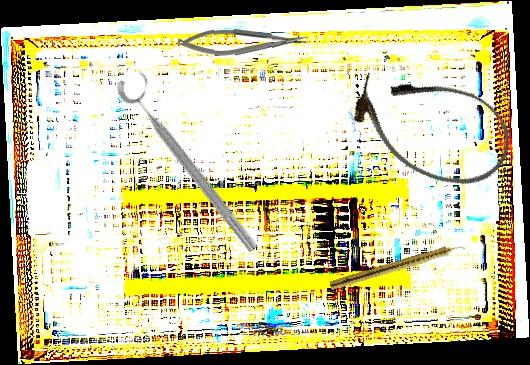Cannula: (340, 53, 523, 202)
Fixation Ring: (112, 65, 273, 257)
Handpiece: (329, 240, 466, 294)
Needle Holder: (177, 27, 309, 58)
